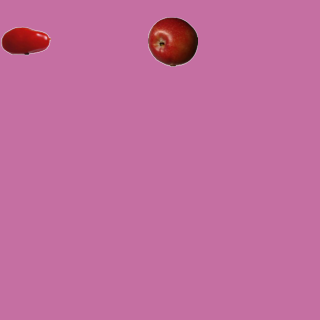Apple Braeburn: (147, 16, 197, 66)
Tomato 2: (0, 15, 50, 65)
